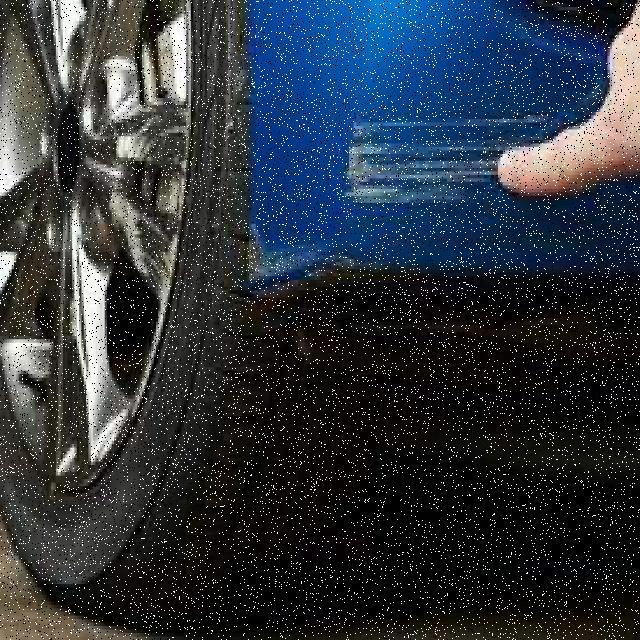front-bumper-dent: (165, 0, 638, 339)
